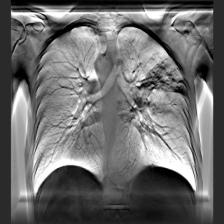tuberculosis: (23, 14, 203, 193)
